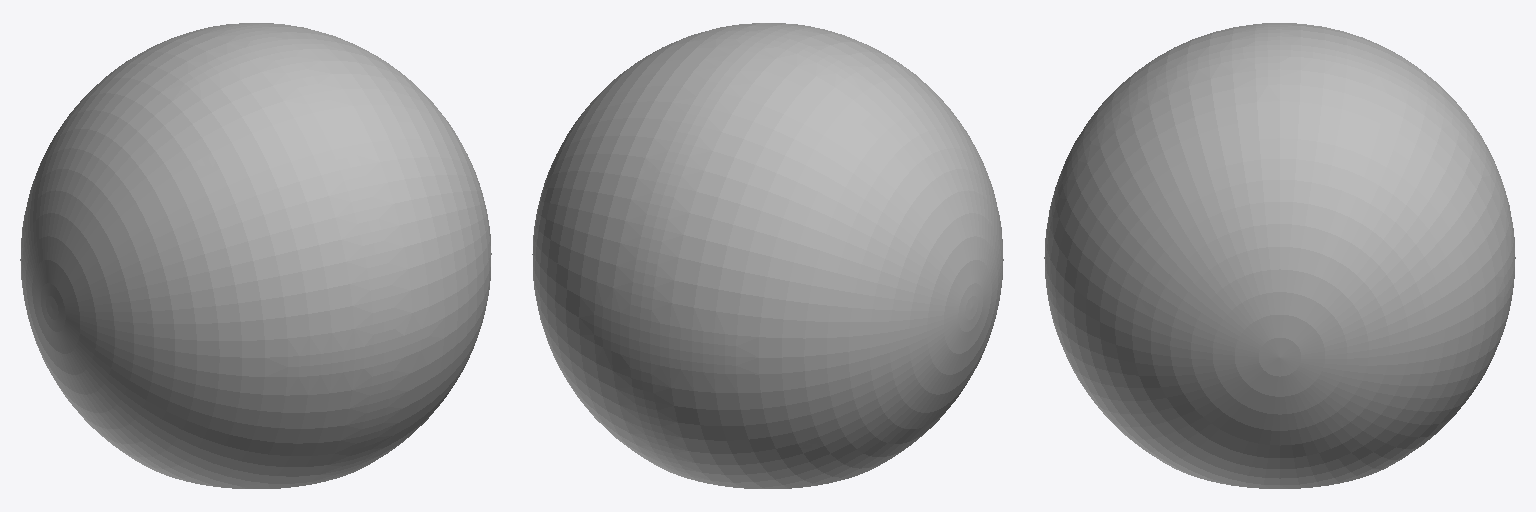
robot.urdf — root:
<robot name="root">
  <link name="link_001">
    <visual>
      <origin xyz="0 0 0" rpy="0 0 0"/>
      <geometry>
        <mesh filename="spheremedium.obj" scale="0.600E+00 0.600E+00 0.6000E+00"/>
      </geometry>
      <material name="">
        <color rgba="7.50E-01 7.50E-01 7.50E-01 1"/>
      </material>
    </visual>
    <collision>
      <origin xyz="0 0 0" rpy="0 0 0"/>
      <geometry>
        <mesh filename="spheremedium.obj" scale="0.6000E+00 0.6000E+00 0.6000E+00"/>
      </geometry>
    </collision>
    <inertial>
      <mass value="0.16"/> <!-- 质量：0.1kg -->
    </inertial>
  </link>
</robot>

--- Facts derived from the render (not from the file) ---
Views: 3 orthographic renders of the robot side by side, from view 1: azimuth 30°, elevation 25°; view 2: azimuth 150°, elevation 25°; view 3: azimuth 270°, elevation 25°.
Robot: root — 1 links, 0 joints (none); root link link_001; default pose: every joint at zero.
Links seen in each view (by area): view 1: link_001; view 2: link_001; view 3: link_001.
Link boxes in pixels (box(x1,y1,x2,y2)): link_001: box(20, 23, 491, 488); link_001: box(532, 23, 1003, 488); link_001: box(1044, 23, 1515, 488).
Size in the robot's own frame: 0.0481 by 0.0481 by 0.0435 metres.
1 mesh visuals loaded from 1 distinct referenced files (1 OBJ).
